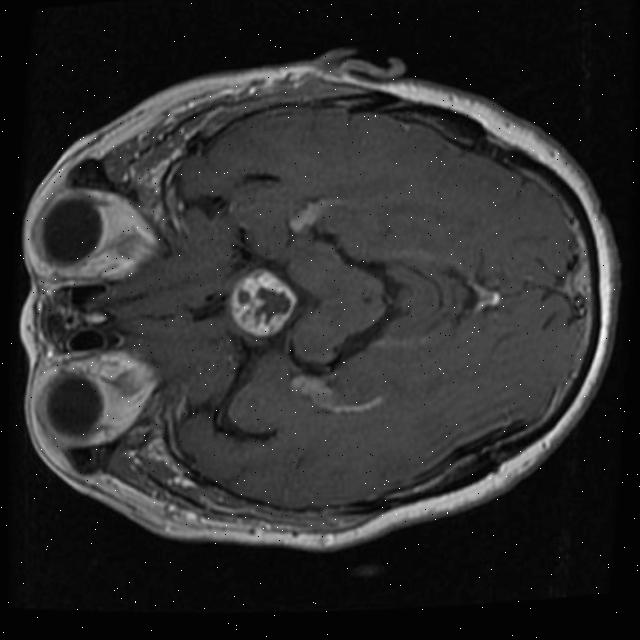Pituitary: (228, 263, 297, 338)
